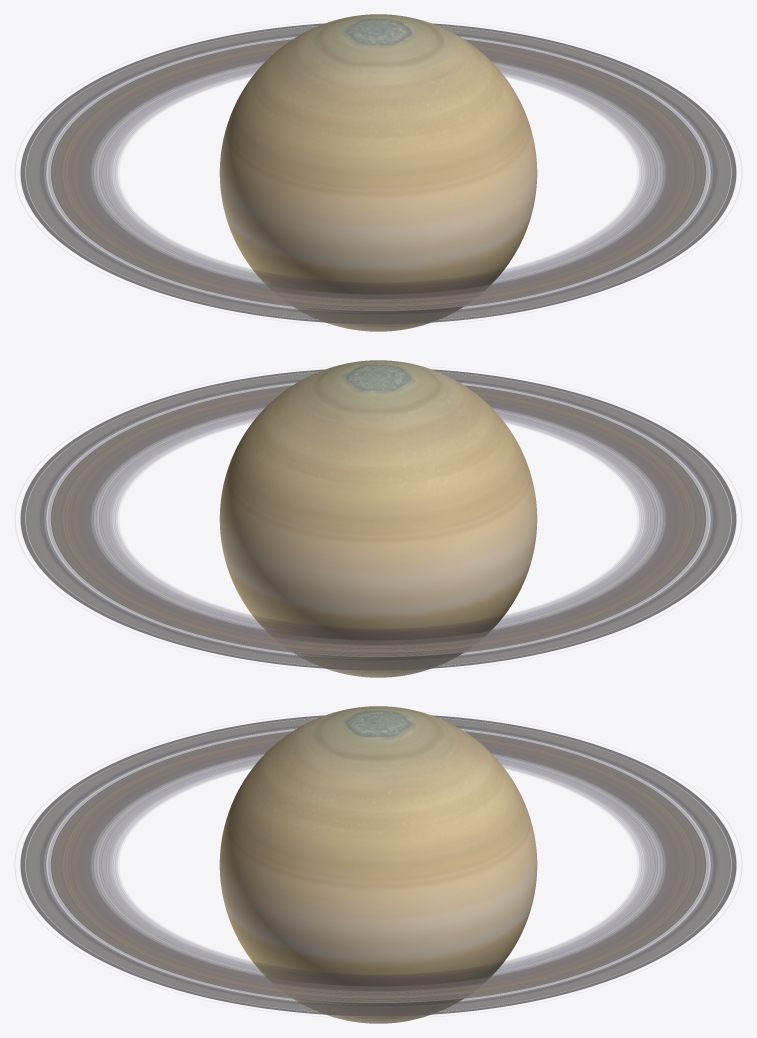
File: saturn.glb
3 views of the same model, one above another, from view 1: azimuth 30°, elevation 25°; view 2: azimuth 150°, elevation 25°; view 3: azimuth 270°, elevation 25° (orthographic).
Parts seen in each view (by area): view 1: Base, 8k_saturn_ring_alpha; view 2: Base, 8k_saturn_ring_alpha; view 3: Base, 8k_saturn_ring_alpha.
Boxes of the visible parts, x1,y1,x2,y2 form: Base: (219,14,537,331); 8k_saturn_ring_alpha: (20,23,736,324); Base: (219,360,537,677); 8k_saturn_ring_alpha: (20,369,736,670); Base: (219,706,537,1023); 8k_saturn_ring_alpha: (20,715,736,1016).
Bounding box in the file's own units: 4.59 × 2 × 4.59.
2 materials, 2 textured.
